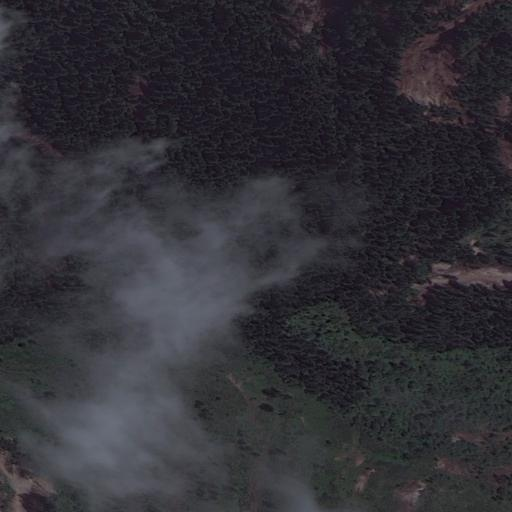landslide: (392, 31, 459, 110), (410, 259, 511, 300)
